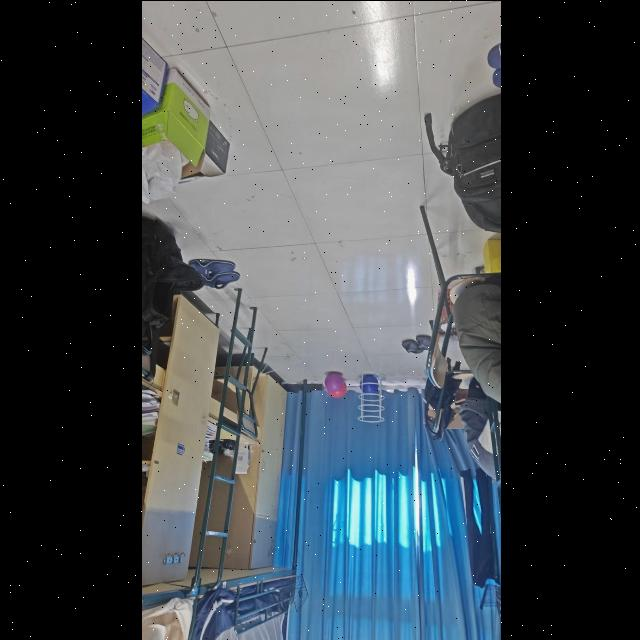B: (360, 373, 377, 393)
P: (324, 372, 341, 390)
R: (326, 382, 345, 397)
S: (357, 374, 383, 423)
